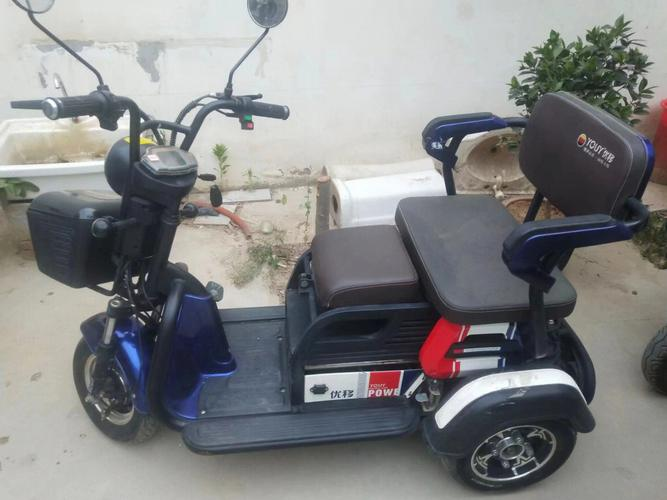empty: (20, 6, 643, 481)
